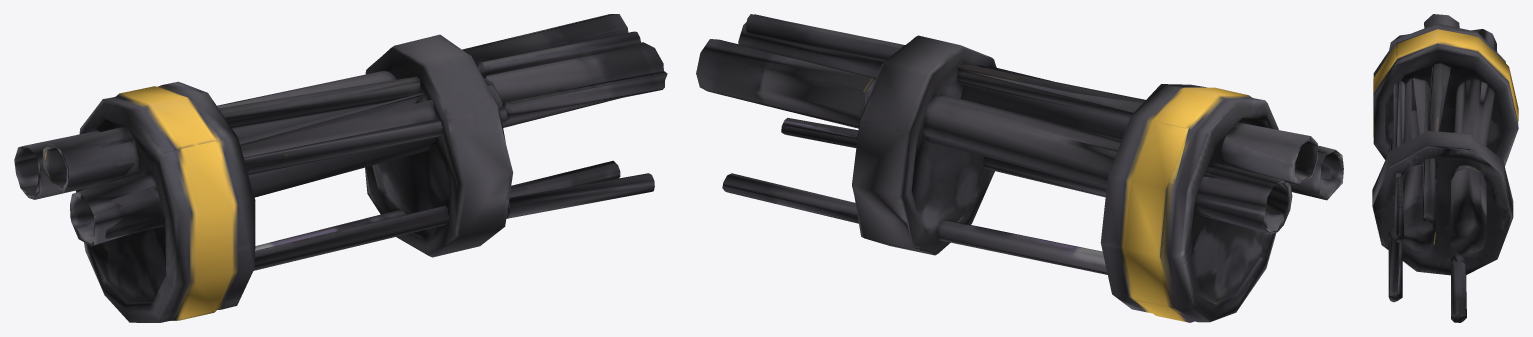
File: gun_barrels.glb
3 views of the same model, side by side, from view 1: azimuth 30°, elevation 25°; view 2: azimuth 150°, elevation 25°; view 3: azimuth 270°, elevation 25° (orthographic). The views are drawn at different scales.
Parts seen in each view (by area): view 1: Gun_Barrels; view 2: Gun_Barrels; view 3: Gun_Barrels.
Boxes of the visible parts, x1,y1,x2,y2 form: Gun_Barrels: (14,14,667,322); Gun_Barrels: (696,14,1343,322); Gun_Barrels: (1372,14,1518,322).
Size of the model in its own units: 0.4575 by 0.1631 by 0.1479.
1 material, 1 textured.
